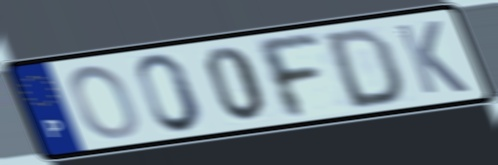0: (135, 52, 205, 135), (202, 44, 269, 125)
D: (323, 25, 406, 111)
F: (248, 32, 327, 122)
K: (391, 18, 473, 98)
O: (66, 62, 141, 141)
